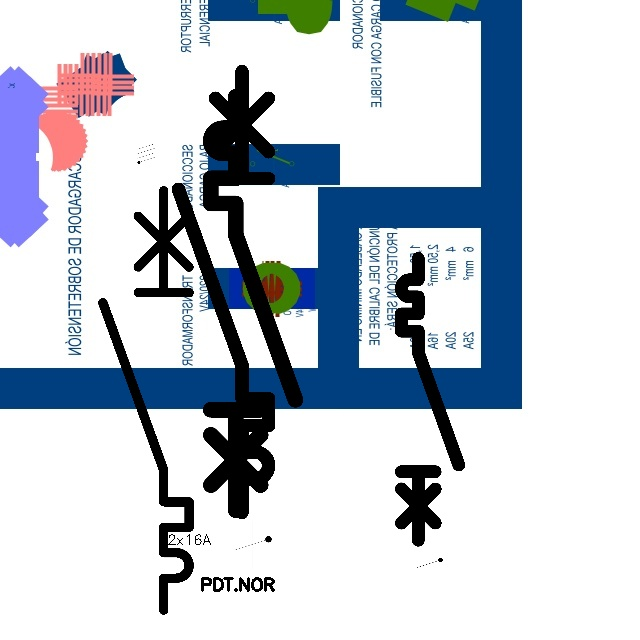interruptor_termomagnetico: (167, 60, 280, 524), (92, 179, 200, 620), (200, 86, 306, 521), (394, 251, 466, 547)
